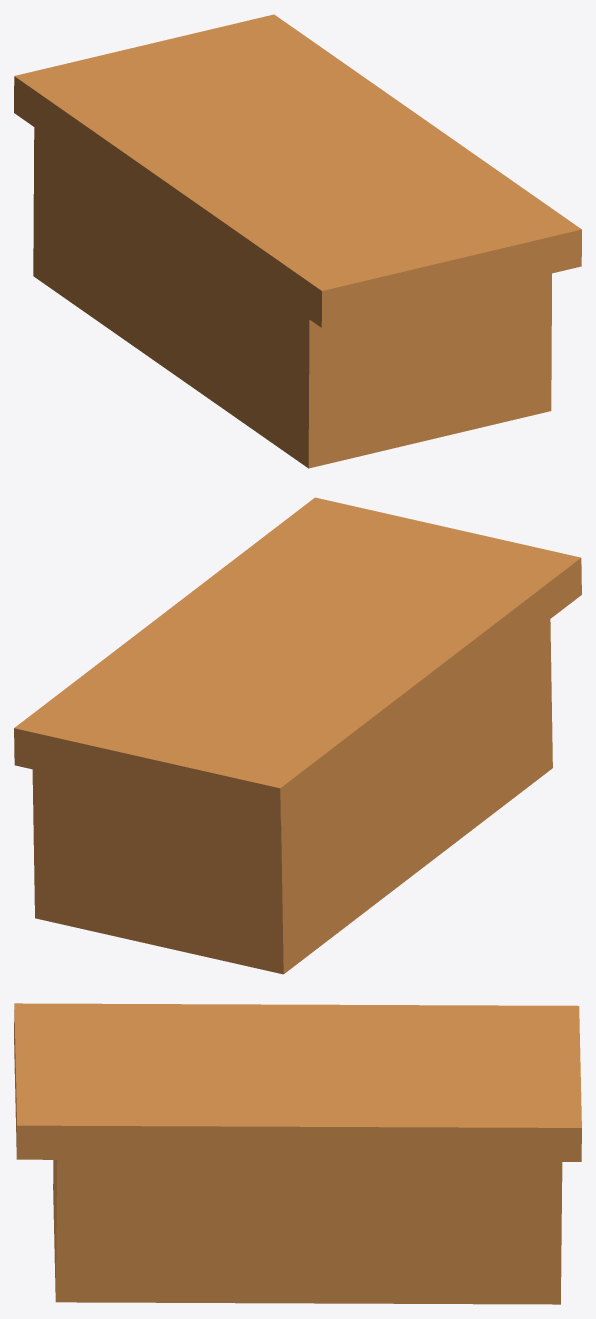
File: 9.Time capsule.fbx
3 renders of one model, top to bottom at view 1: azimuth 30°, elevation 25°; view 2: azimuth 150°, elevation 25°; view 3: azimuth 270°, elevation 25°, orthographic. The views are drawn at different scales.
Parts seen in each view (by area): view 1: Cube.168, Cube.167; view 2: Cube.168, Cube.167; view 3: Cube.168, Cube.167.
Boxes of the visible parts, <box> form: Cube.168: <box>14,14,581,327</box>; Cube.167: <box>33,127,551,468</box>; Cube.168: <box>14,497,581,825</box>; Cube.167: <box>32,619,552,974</box>; Cube.168: <box>14,1003,581,1161</box>; Cube.167: <box>53,1160,562,1304</box>.
Size of the model in its own units: 77.48 by 56.01 by 153.
